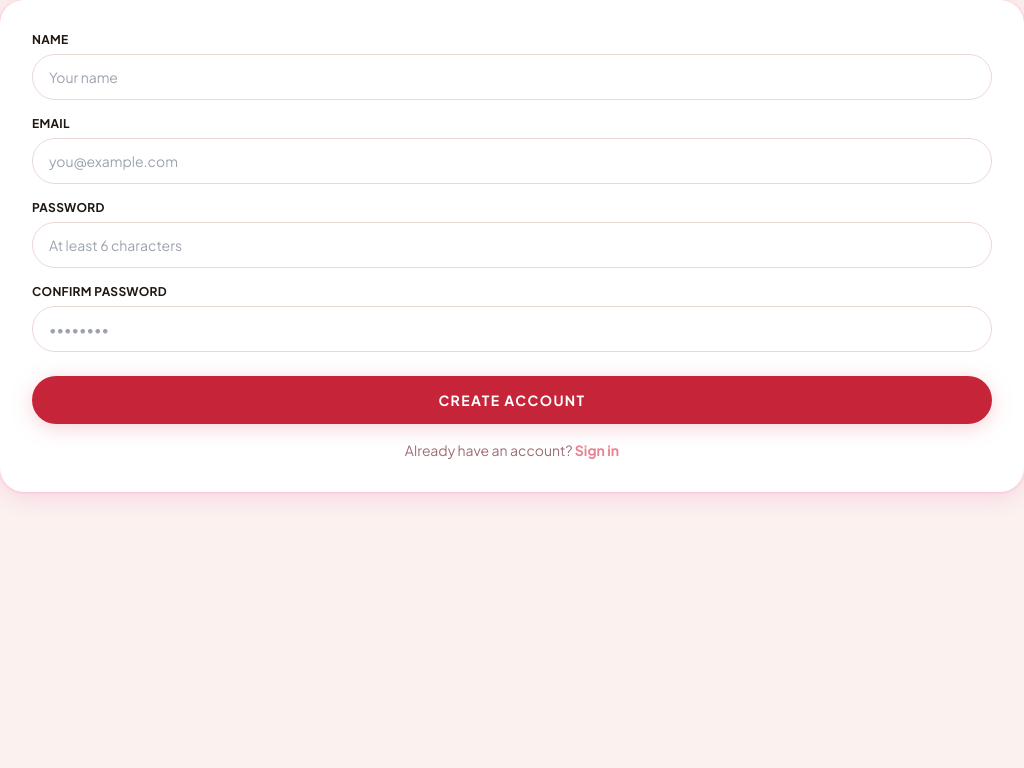
Test: SignupForm › shows a friendly error for a genuine unexpected failure (failure case, unrelated to account enumeration)
This screenshot has width=1024, height=768.
Type "Nandini" into the field with placeholder "Your name" at (512, 77), box [32,54,992,100]
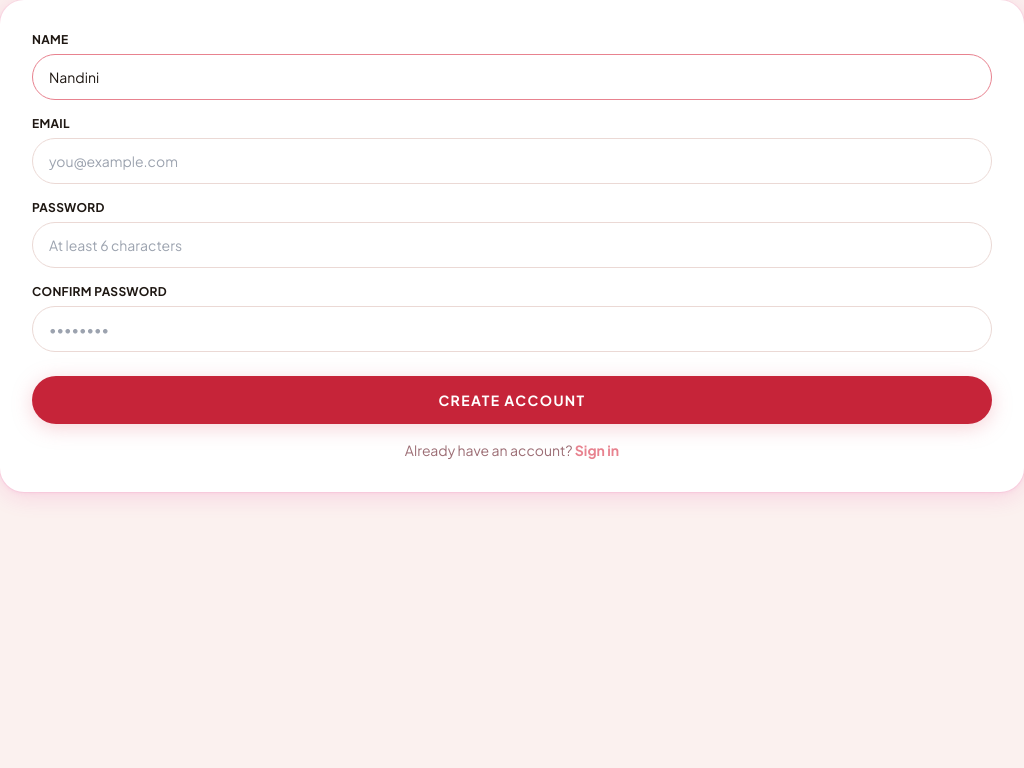
Type "nandini@charmavenue.in" into the field with placeholder "you@example.com" at (512, 161), box [32,138,992,184]
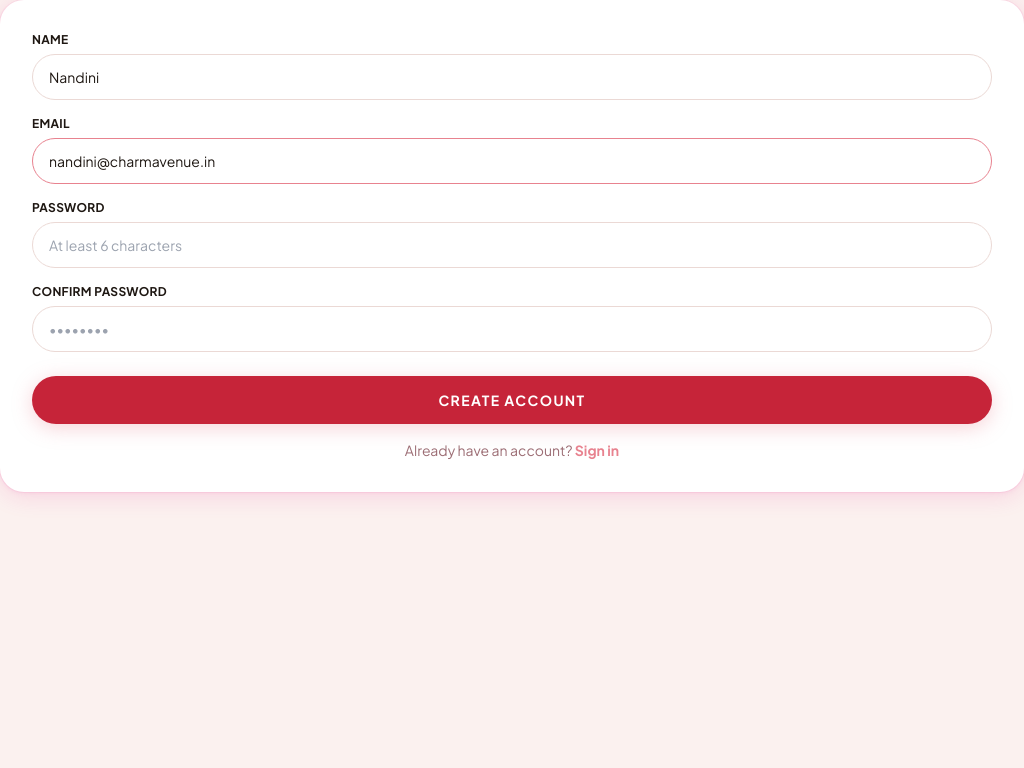
Type "secret1" into the password field with placeholder "At least 6 characters" at (512, 245), box [32,222,992,268]
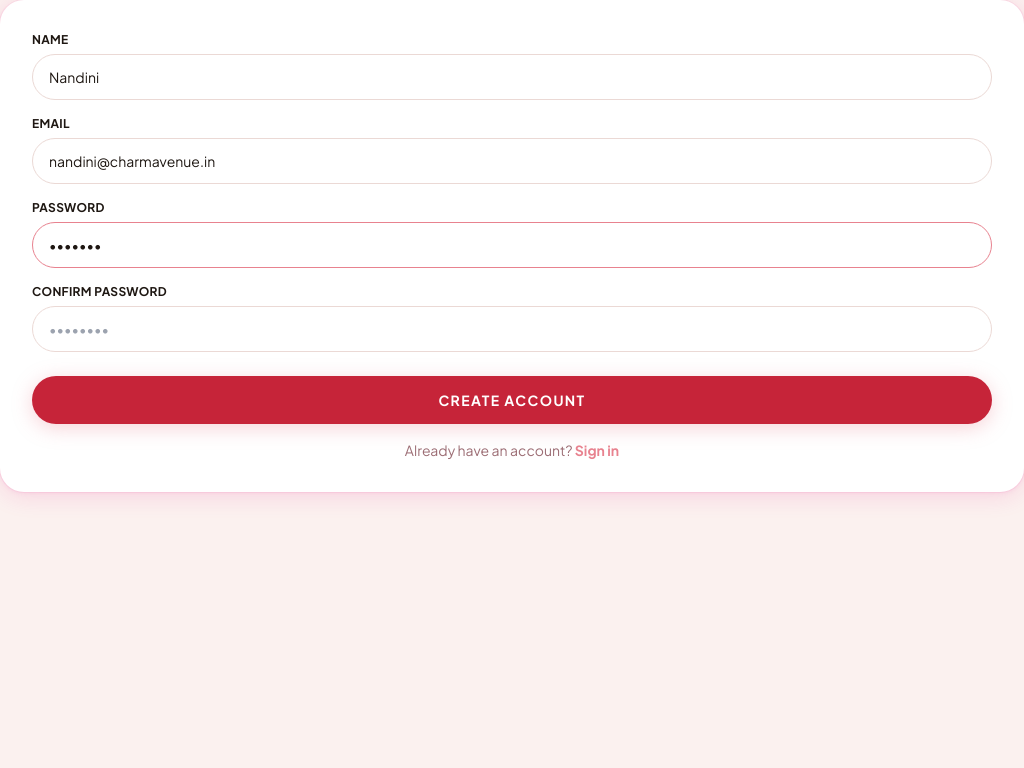
Type "secret1" into the password field with placeholder "••••••••" at (512, 329), box [32,306,992,352]
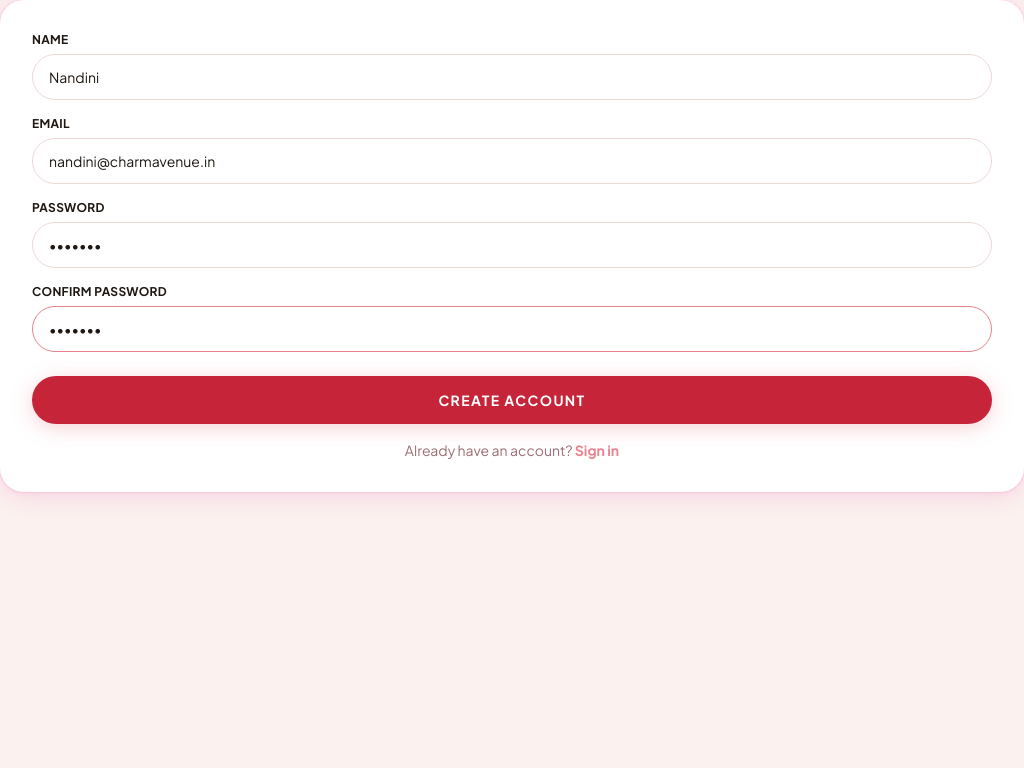
Click the button "Create Account" at (512, 400), box [32,376,992,424]
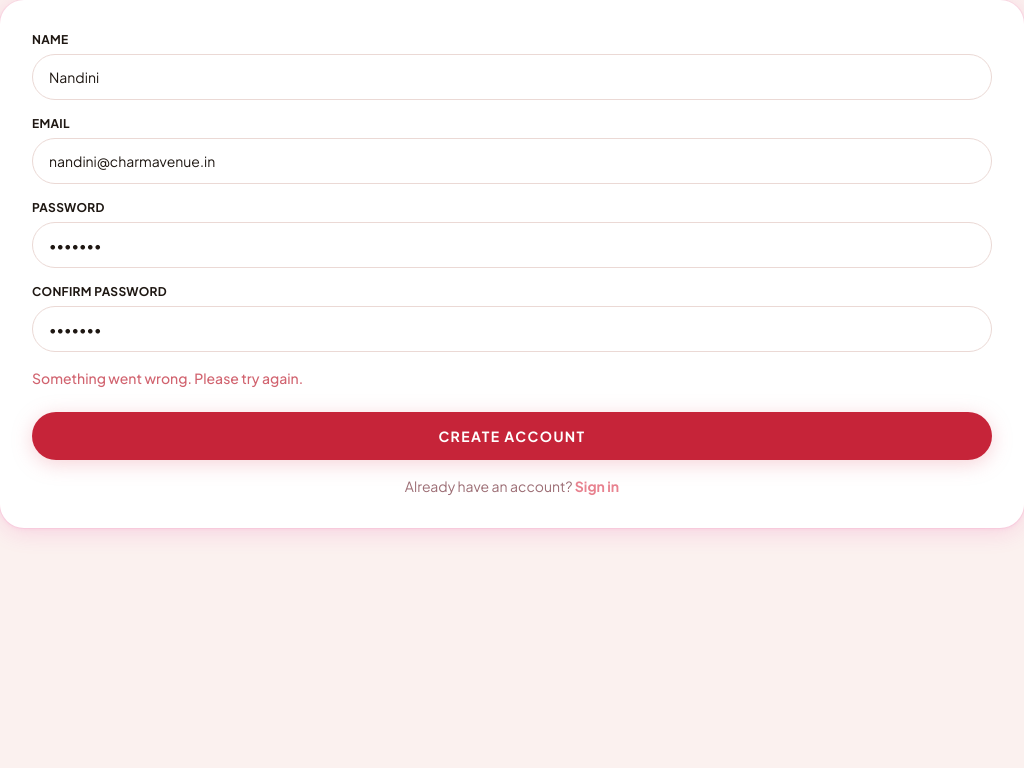
Expected: the text "Something went wrong. Please try again." is shown, [32,369,303,387]
